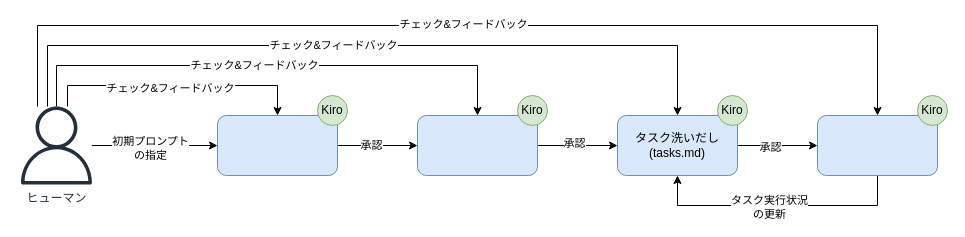
This 965x237 diagram has some shape labels left out. The box of each missing label's shape, as (x1, y1, x2, y2) in pixels:
実装: (816, 114, 938, 176)
要件定義 (requirements.md): (216, 114, 338, 176)
設計 (design.md): (416, 114, 538, 176)
